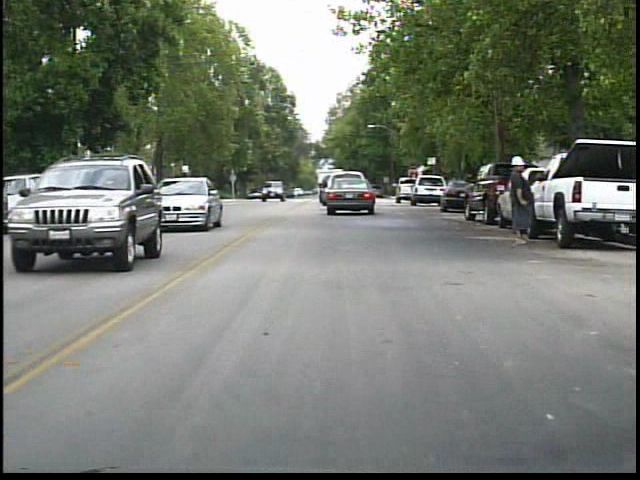person: (502, 150, 537, 247)
